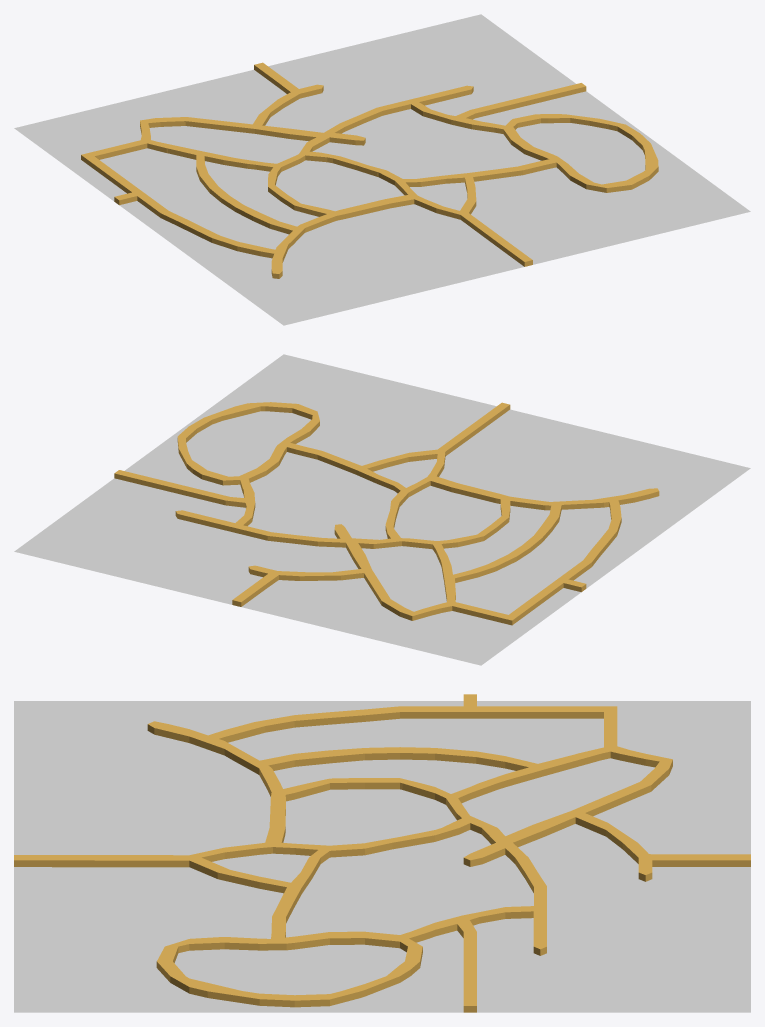
The model's file is rock_kicking_heaven_ground.glb.
The picture shows the model from 3 angles, top to bottom: view 1: azimuth 30°, elevation 25°; view 2: azimuth 150°, elevation 25°; view 3: azimuth 270°, elevation 25°; orthographic projection. The views are drawn at different scales.
Parts seen in each view (by area): view 1: HeavenGround, HeavenPath; view 2: HeavenGround, HeavenPath; view 3: HeavenGround, HeavenPath.
Part boxes in pixels (box(x1,y1,x2,y2)): HeavenGround: box(14, 14, 750, 325); HeavenPath: box(81, 62, 658, 278); HeavenGround: box(14, 354, 750, 665); HeavenPath: box(114, 402, 659, 625); HeavenGround: box(14, 701, 750, 1012); HeavenPath: box(14, 694, 750, 1012).
Bounding box in the file's own units: 500 × 5 × 500.
